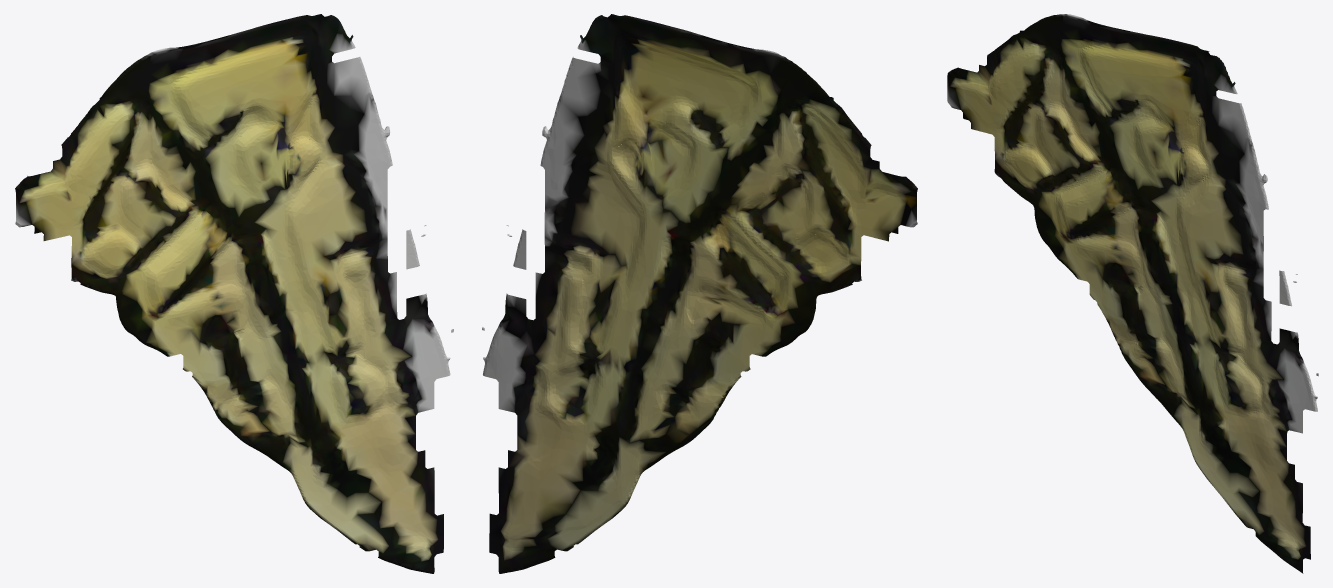
File: stake.glb
3 views of the same model, side by side, from view 1: azimuth 30°, elevation 25°; view 2: azimuth 150°, elevation 25°; view 3: azimuth 330°, elevation 25° (orthographic). The views are drawn at different scales.
Parts seen in each view (by area): view 1: geometry_0; view 2: geometry_0; view 3: geometry_0.
Part boxes in pixels (bbox=[...]): geometry_0: bbox=[15, 14, 453, 573]; geometry_0: bbox=[482, 14, 917, 573]; geometry_0: bbox=[947, 14, 1318, 573].
Bounding box in the file's own units: 0.5312 × 0.6846 × 0.0129.
